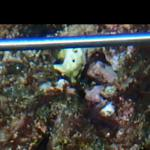dead: (8, 52, 142, 146)
